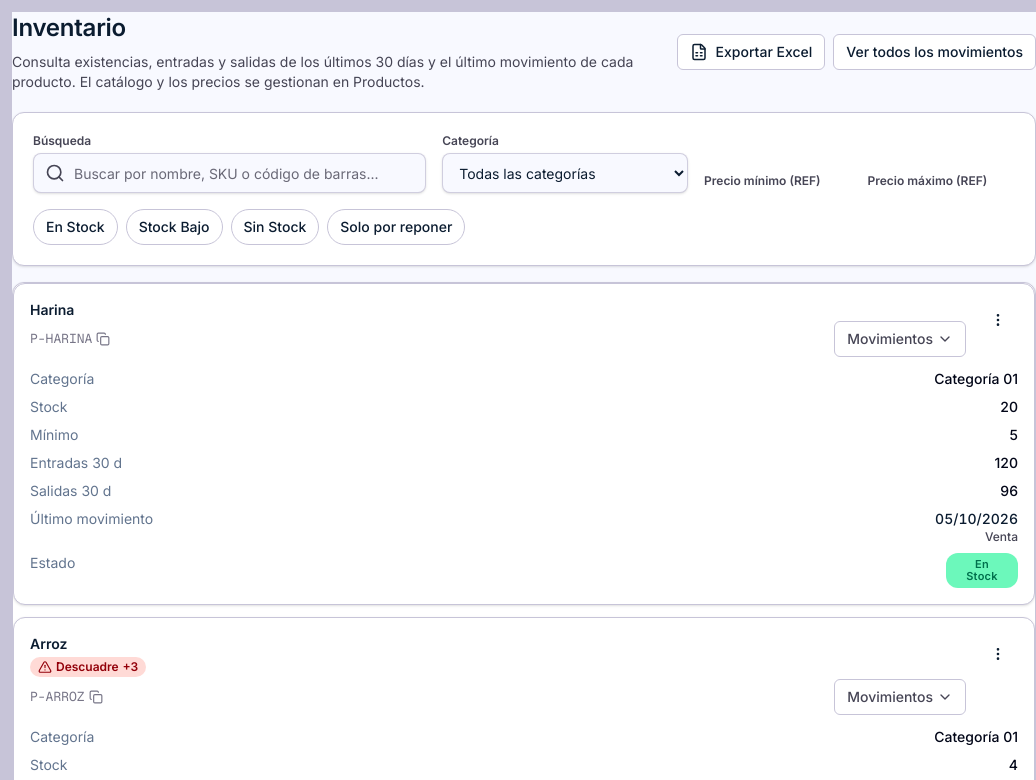
Test: InventoryListPage · vista única de stock › movimientos en línea › expands the card of a phone with a labelled button and the panel at its foot
The width and height of the screenshot is (1036, 780).
Click the button with aria-label "Ver movimientos de Arroz": (900, 697) [834, 679, 966, 715]
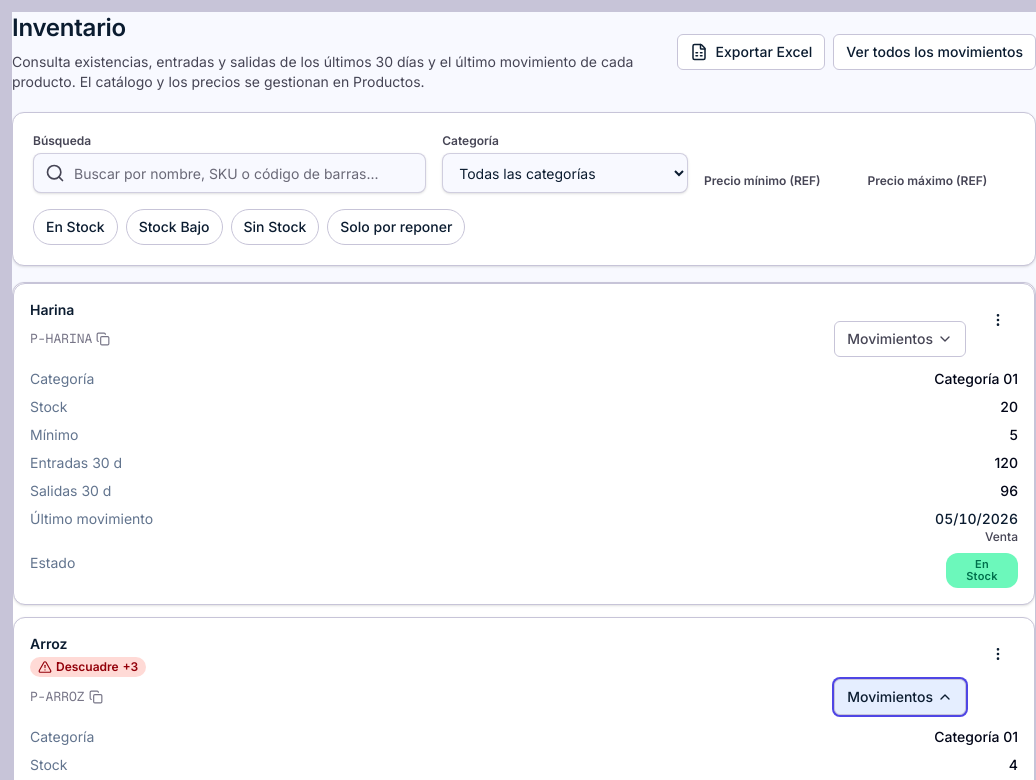
Expected: the button named "Ver movimientos de Arroz" is expanded, [834, 679, 966, 715]
